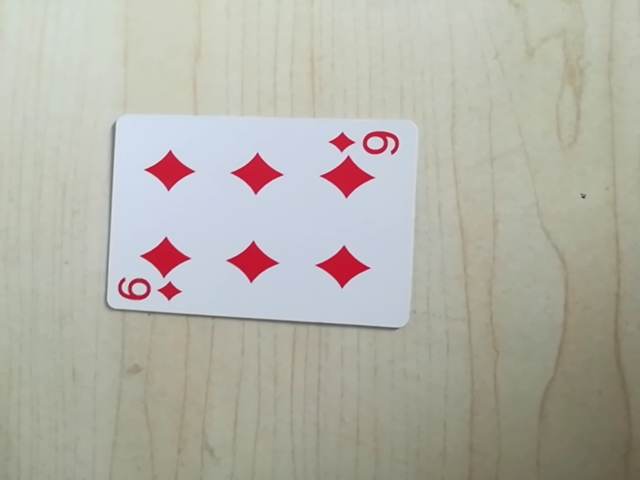fk 6: (326, 123, 402, 161), (115, 274, 184, 309)
